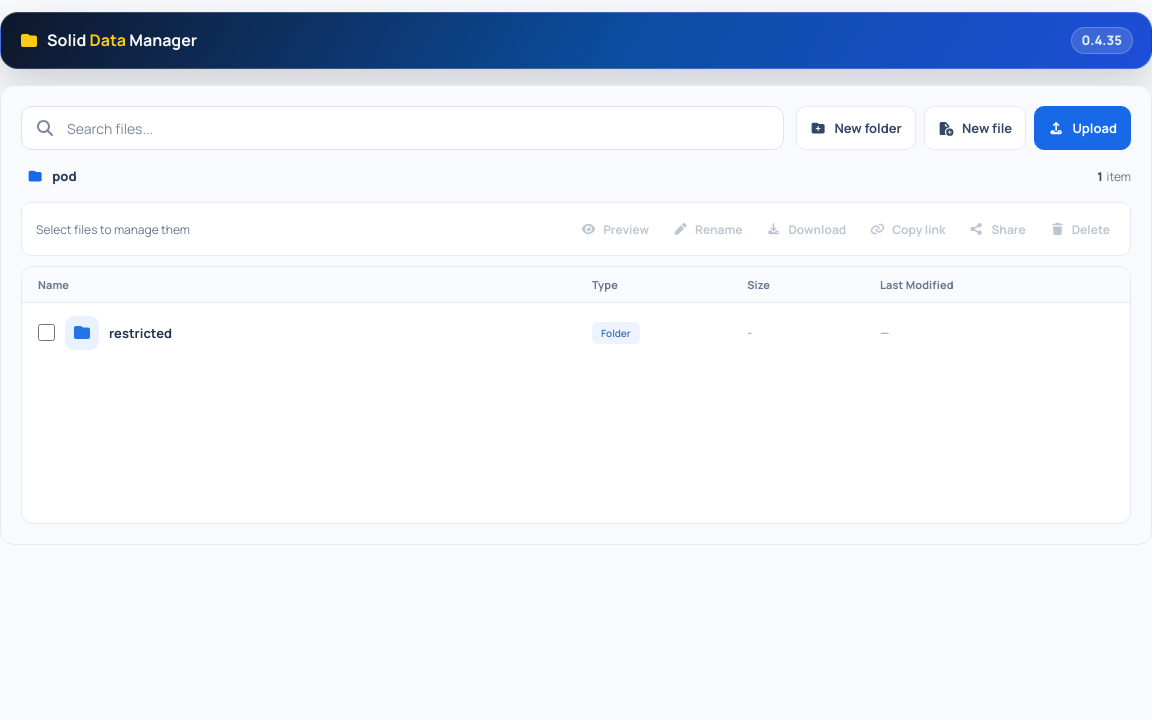
keeps the parent breadcrumb and listing when opening a folder returns 403
Click the button "restricted": [140, 333] box [109,322,172,344]
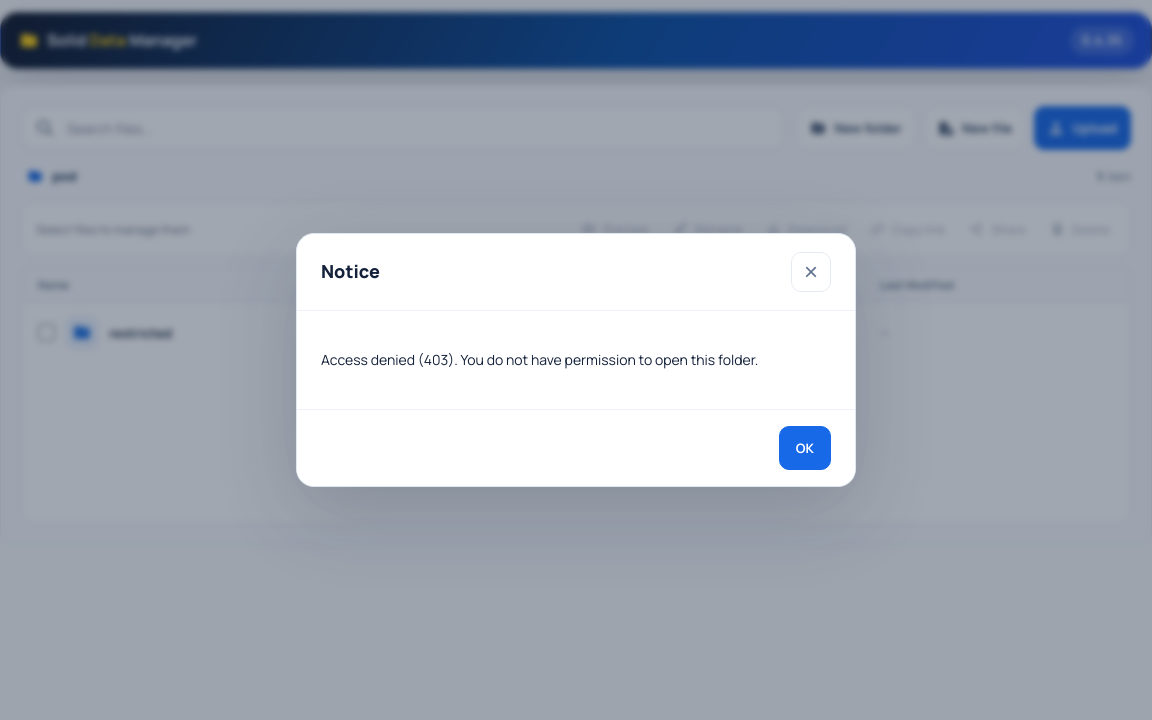
expect the navigation bar with class "crumb" reads "pod": met, box [52,167,77,185]
expect the text "Access denied (403). You do not have permission to open this folder." is shown: met, box [321,349,831,371]
